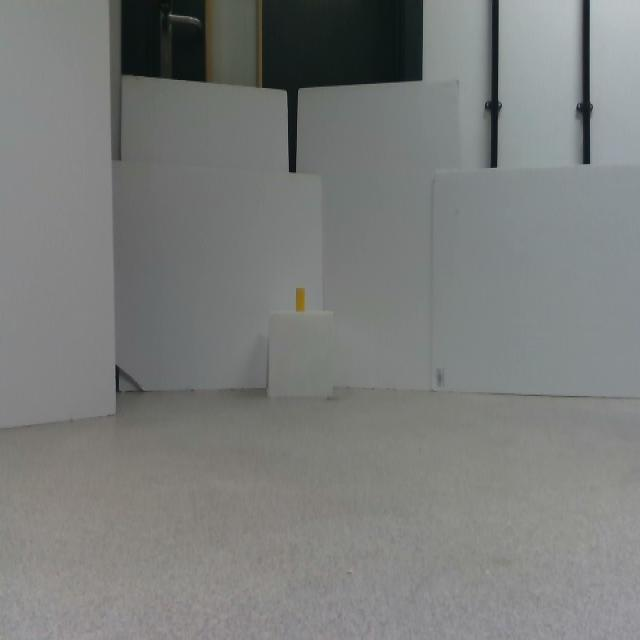yellow_cylinder: (296, 288, 305, 311)
